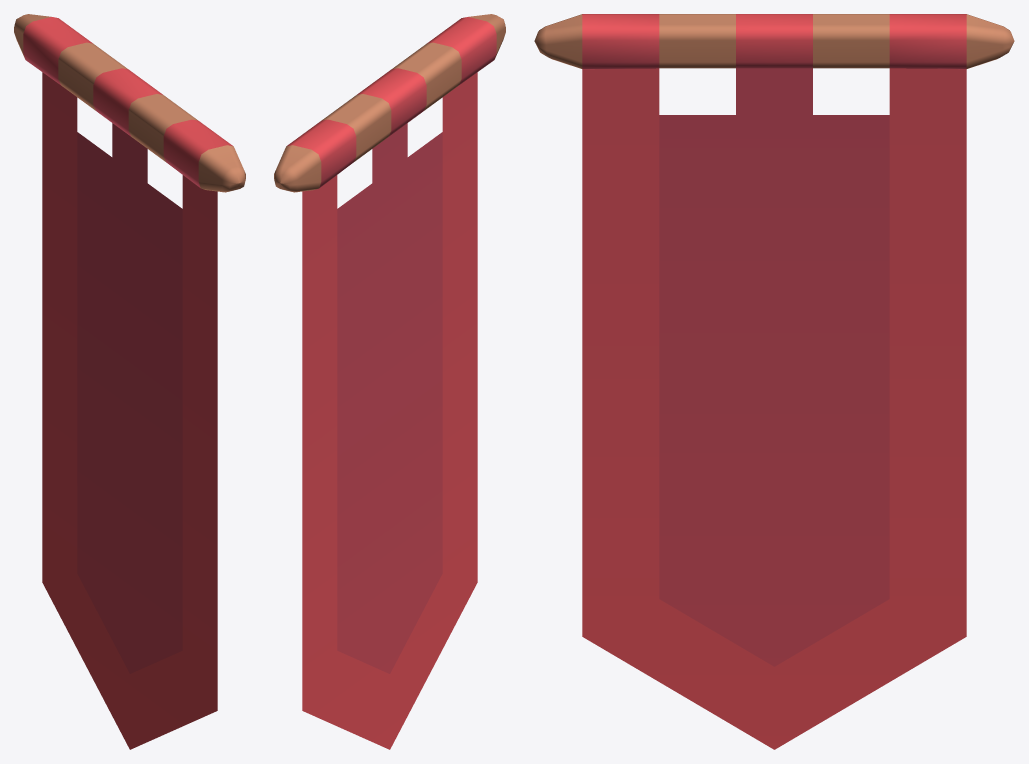
The model's file is banner-red.glb.
The picture shows the model from 3 angles, left to right: view 1: azimuth 30°, elevation 25°; view 2: azimuth 150°, elevation 25°; view 3: azimuth 270°, elevation 25°; orthographic projection. The views are drawn at different scales.
Visible parts, largest first — view 1: banner-red; view 2: banner-red; view 3: banner-red.
Boxes of the visible parts, x1,y1,x2,y2 form: banner-red: [14, 14, 245, 749]; banner-red: [274, 14, 505, 749]; banner-red: [534, 14, 1014, 749].
Bounding box in the file's own units: 0.05 × 0.8394 × 0.5.
1 material, 1 textured.
